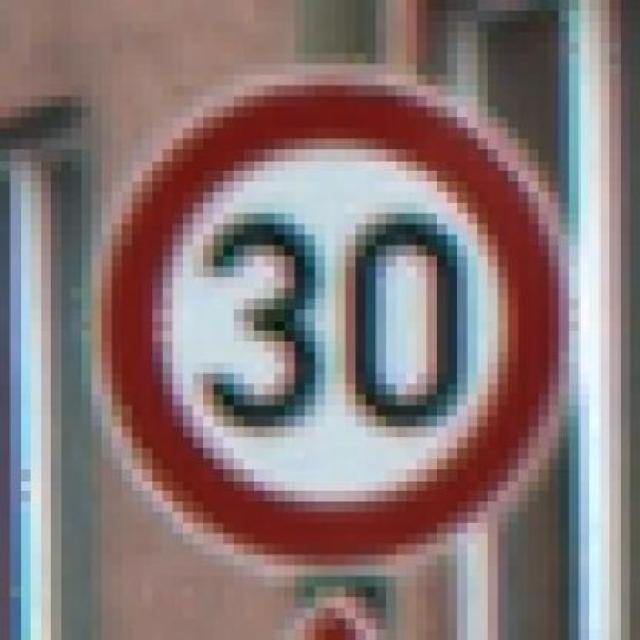Speed Limit 30 KMPh: (61, 53, 610, 598)
